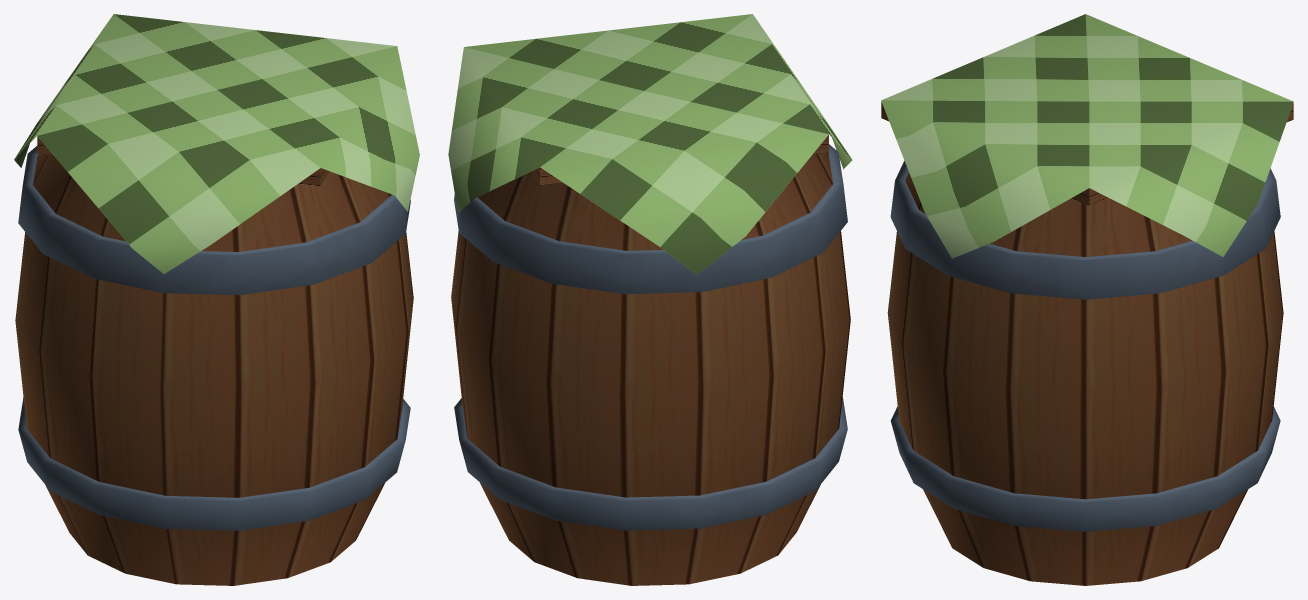
Rendered from pm-small-barrel.glb.
The picture shows the model from 3 angles, left to right: view 1: azimuth 30°, elevation 25°; view 2: azimuth 150°, elevation 25°; view 3: azimuth 270°, elevation 25°; orthographic projection.
Parts seen in each view (by area): view 1: SmallBarrel_Art; view 2: SmallBarrel_Art; view 3: SmallBarrel_Art.
Boxes of the visible parts, <box> form: SmallBarrel_Art: <box>14,14,419,585</box>; SmallBarrel_Art: <box>448,14,852,585</box>; SmallBarrel_Art: <box>881,14,1293,585</box>.
Size of what is drawn, in the model's own units: 0.9001 by 1.03 by 0.9024.
3 materials, 3 textured.
